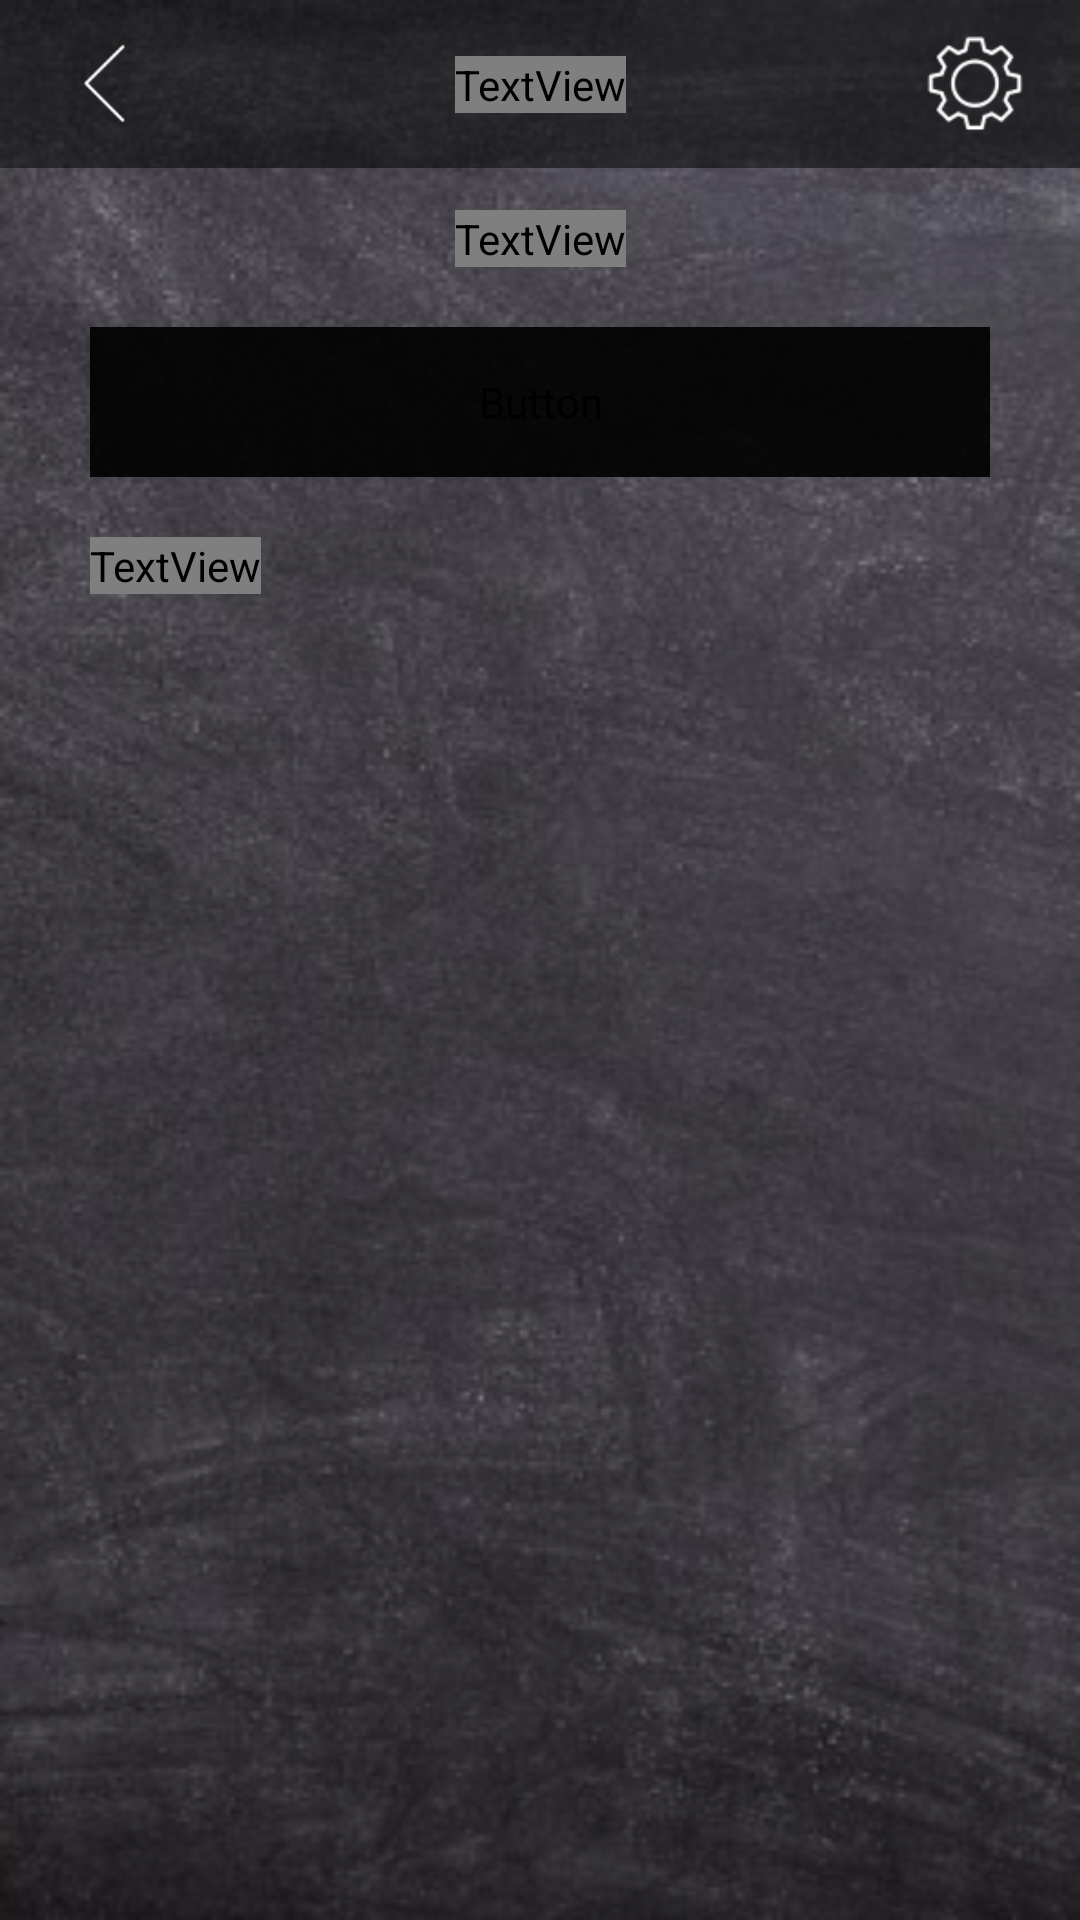

Locate icon controls on the screen. Image size 1080w x 1920h, boxes as (x1, y1, x2, y2).
config: (927, 36, 1023, 130)
voltar: (84, 44, 125, 122)
